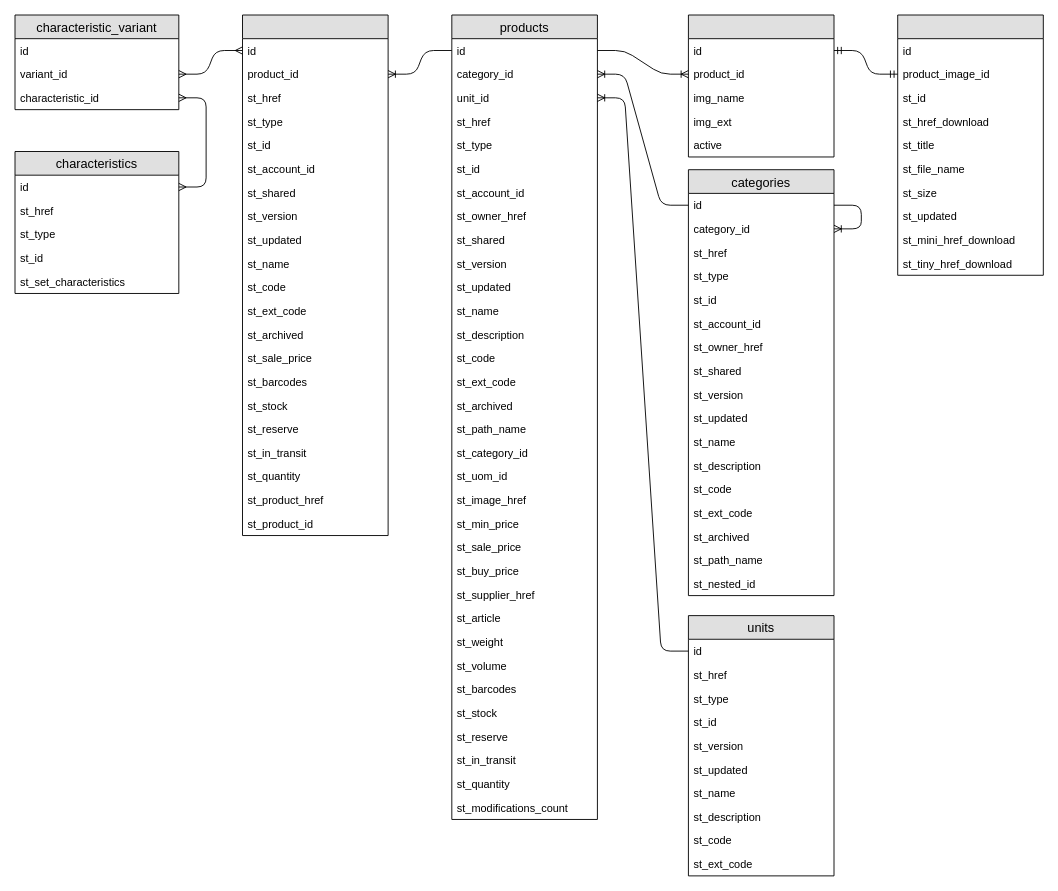
Some shapes in this 1058 by 891 pixel diagram are drawn without their labels. The box of each missing label's shape, as (x1, y1, x2, y2) in pixels:
product_images: (688, 14, 834, 157)
store_images: (897, 14, 1043, 275)
variants: (242, 14, 388, 536)
